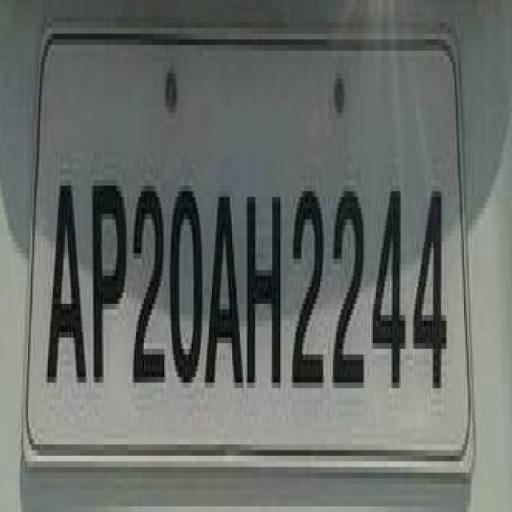number plate: (27, 8, 464, 480)
